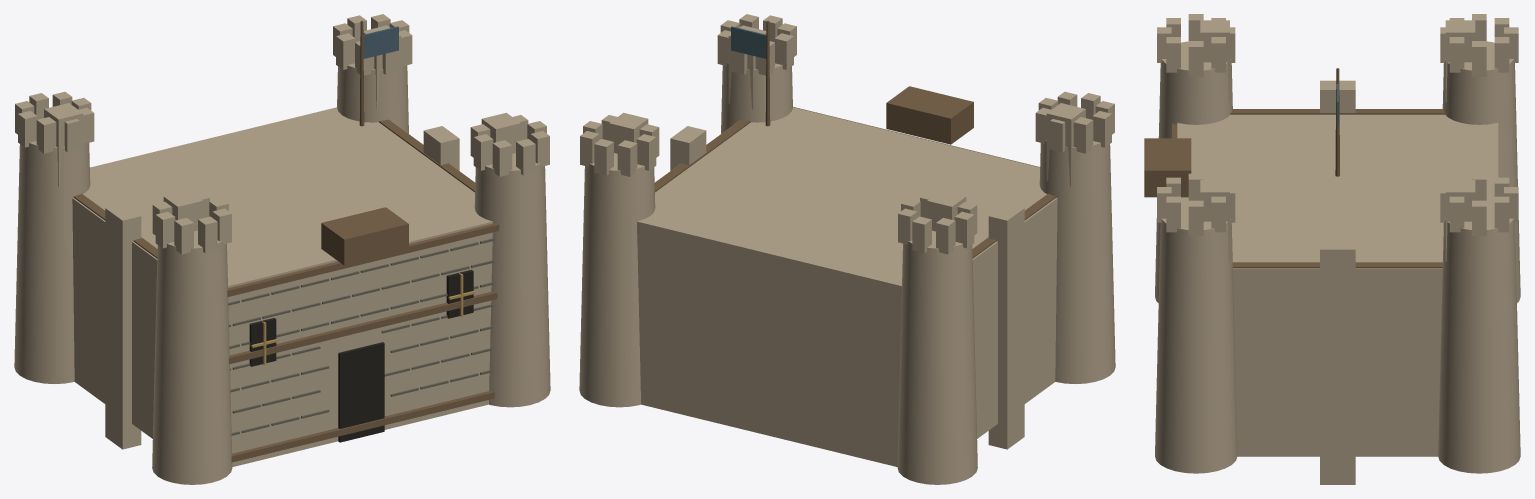
The model's file is b-keep-castilian.glb.
The picture shows the model from 3 angles, left to right: view 1: azimuth 30°, elevation 25°; view 2: azimuth 150°, elevation 25°; view 3: azimuth 270°, elevation 25°; orthographic projection. The views are drawn at different scales.
Visible parts, largest first — view 1: Structure, fortification3, fortification2; view 2: Structure, fortification3, fortification2; view 3: Structure, fortification3, fortification2.
Boxes of the visible parts, <box> form: Structure: <box>14,14,550,484</box>; fortification3: <box>44,25,520,449</box>; fortification2: <box>57,67,459,437</box>; Structure: <box>579,14,1115,484</box>; fortification3: <box>609,25,1085,449</box>; fortification2: <box>670,67,1072,437</box>; Structure: <box>1155,14,1520,473</box>; fortification3: <box>1144,20,1475,484</box>; fortification2: <box>1228,65,1447,472</box>.
Bounding box in the file's own units: 7.8 × 6.95 × 6.38.
